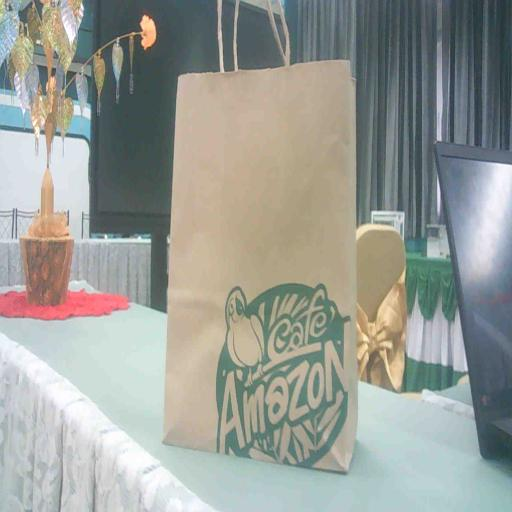bag: (166, 62, 360, 482)
